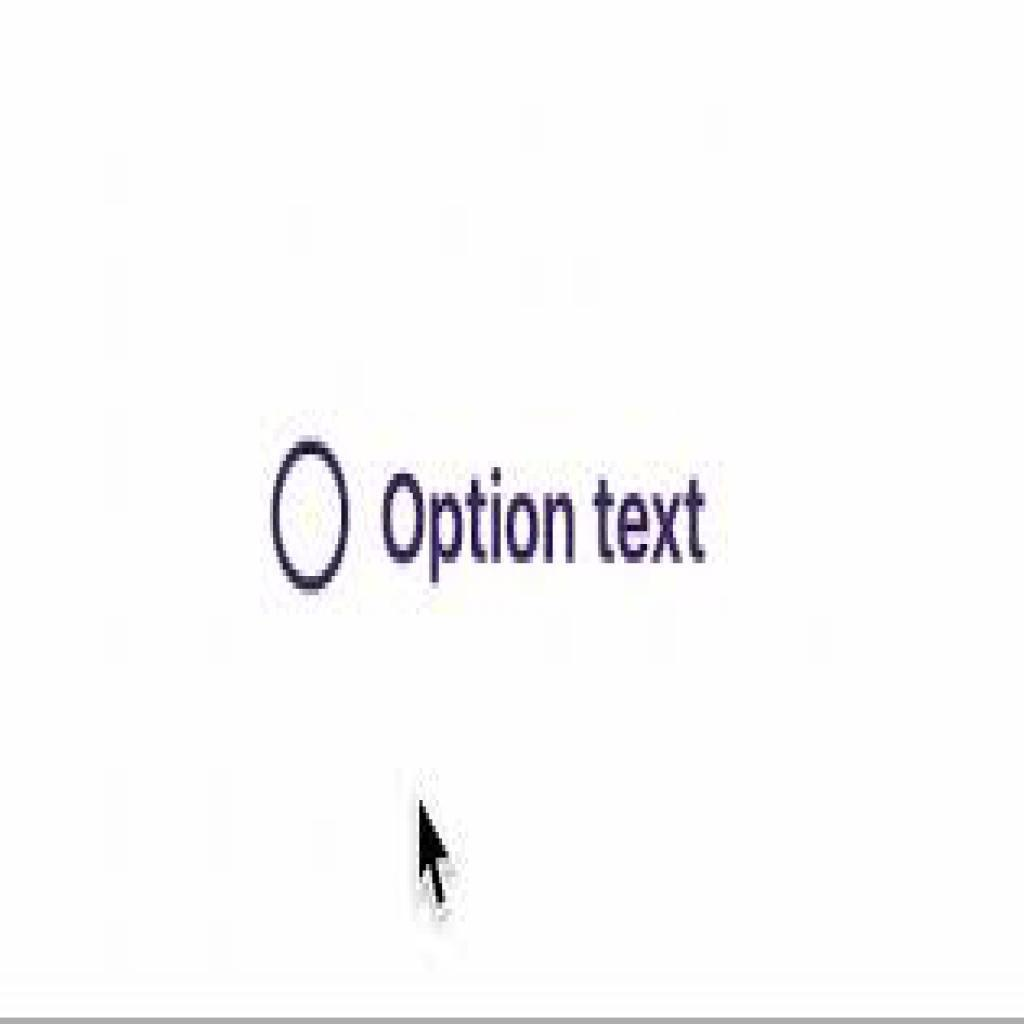radio: (268, 430, 359, 596)
